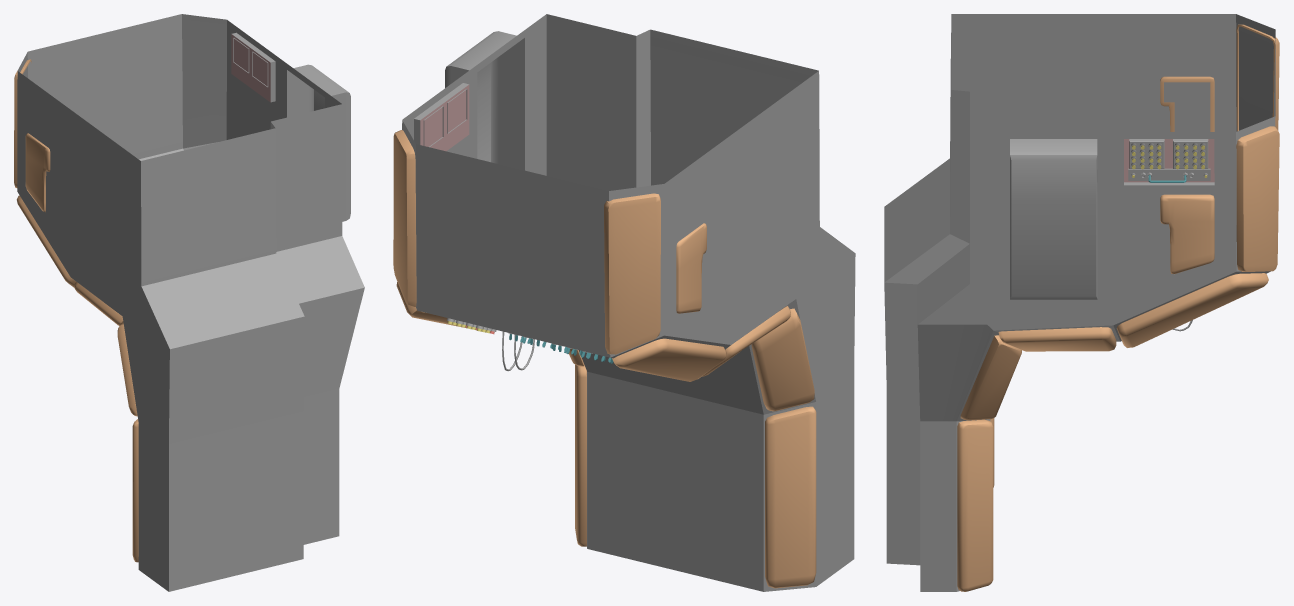
The model's file is console.fbx.
The picture shows the model from 3 angles, left to right: view 1: azimuth 30°, elevation 25°; view 2: azimuth 150°, elevation 25°; view 3: azimuth 270°, elevation 25°; orthographic projection. The views are drawn at different scales.
Visible parts, largest first — view 1: polySurface9774; view 2: polySurface9774; view 3: polySurface9774.
Boxes of the visible parts, <box> form: polySurface9774: <box>14,14,364,591</box>; polySurface9774: <box>393,14,855,591</box>; polySurface9774: <box>884,14,1279,591</box>.
Bounding box in the file's own units: 192 × 314 × 237.
